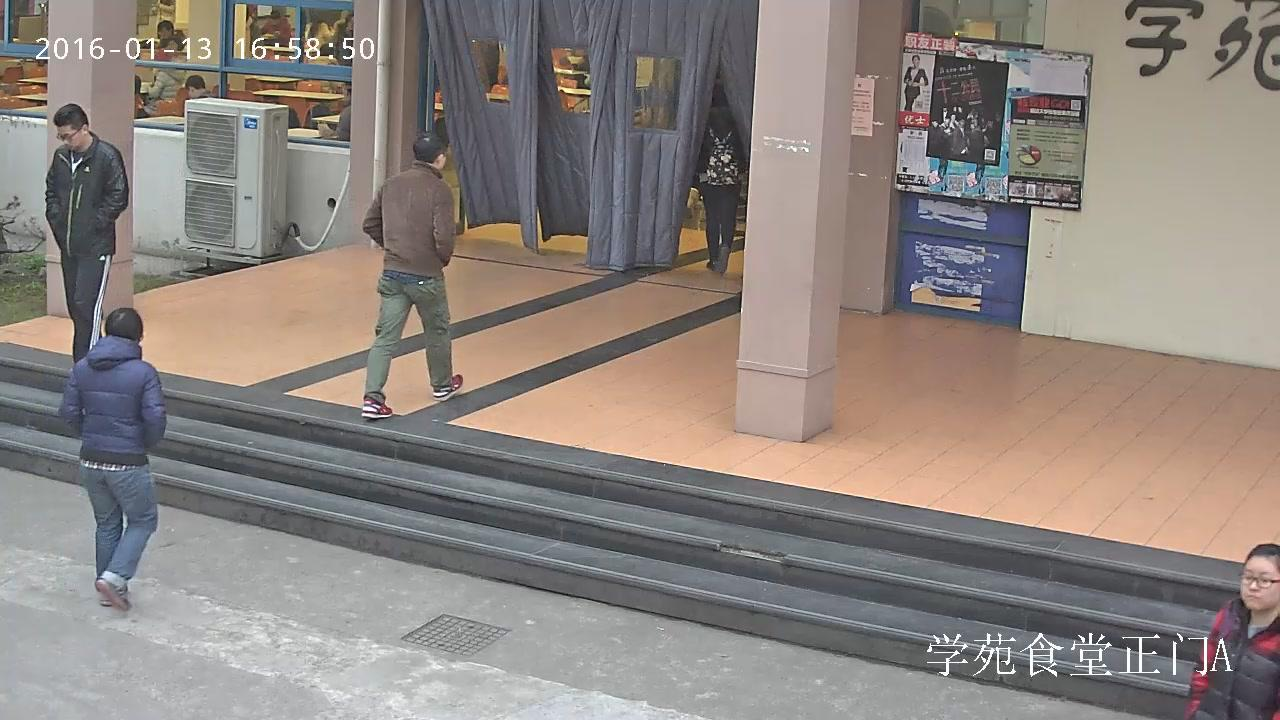person: (60, 306, 165, 612), (360, 132, 463, 421), (46, 101, 129, 362), (1181, 543, 1280, 720), (695, 88, 744, 274), (147, 48, 185, 100), (902, 55, 928, 112)
